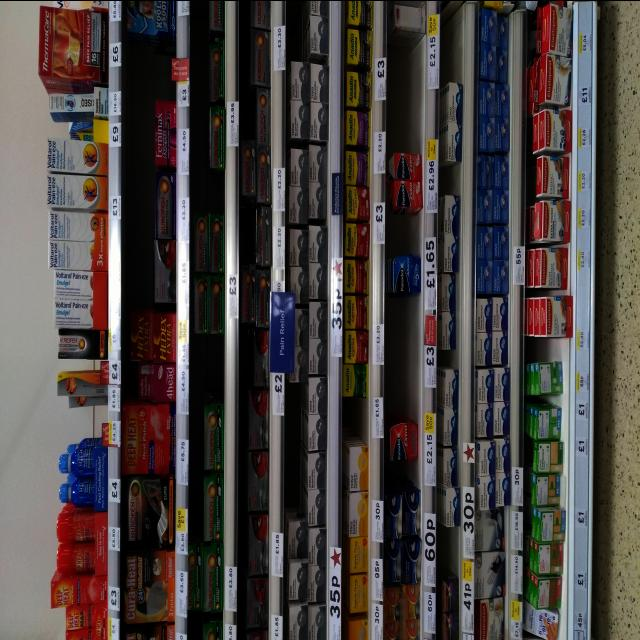empty_space: (388, 303, 416, 414), (392, 41, 420, 143), (193, 342, 223, 398), (445, 10, 463, 70), (390, 217, 418, 249)
